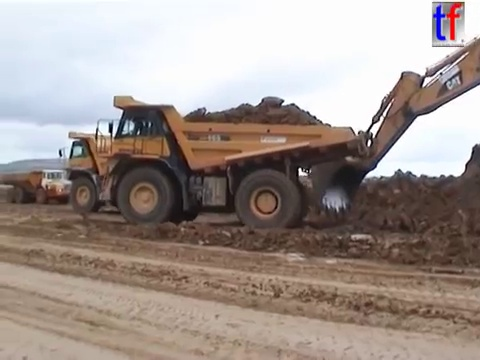excavator: (306, 33, 480, 219)
truck: (93, 93, 361, 237), (57, 129, 225, 219), (1, 167, 75, 205)
